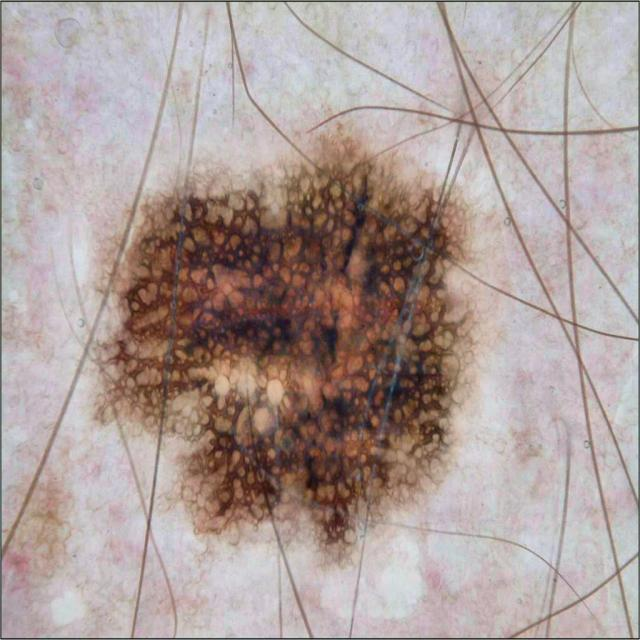Melanocytic-Nevi-NV-: (104, 135, 468, 542)
